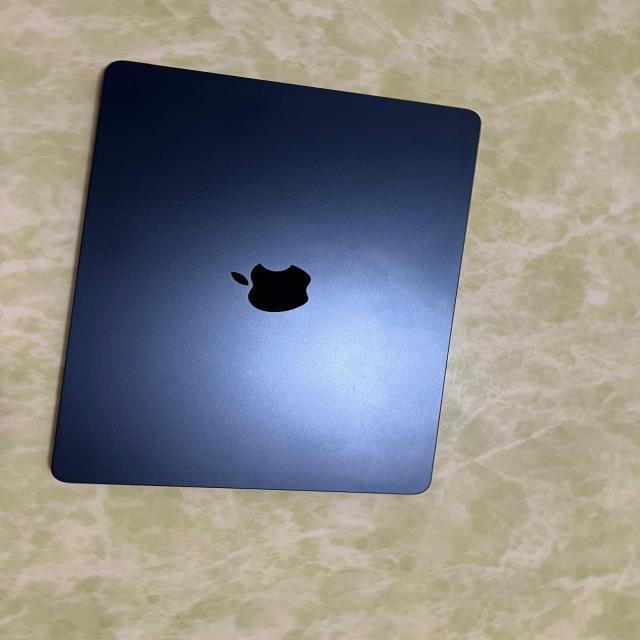laptop: (48, 58, 481, 495)
